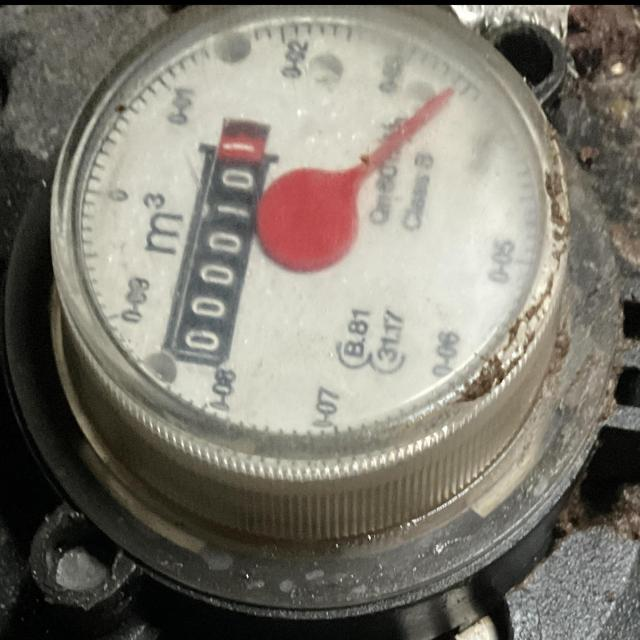gaz_meter: (71, 12, 565, 466)
indication: (160, 116, 279, 370)
